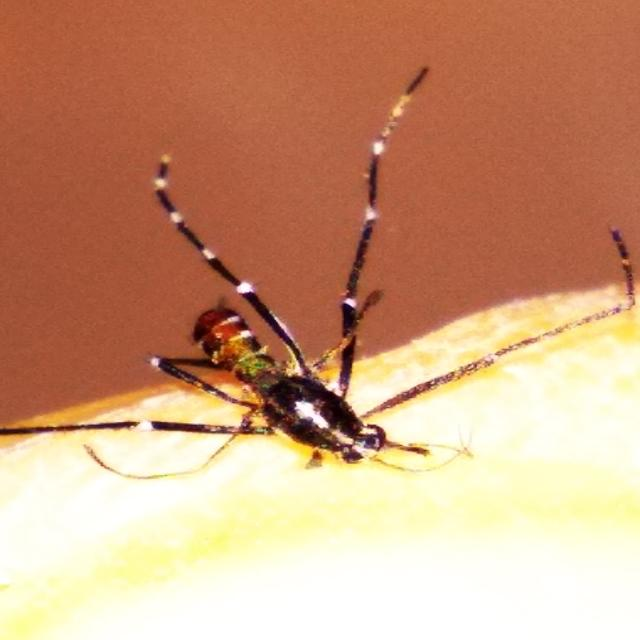albopictus: (73, 55, 516, 517)
